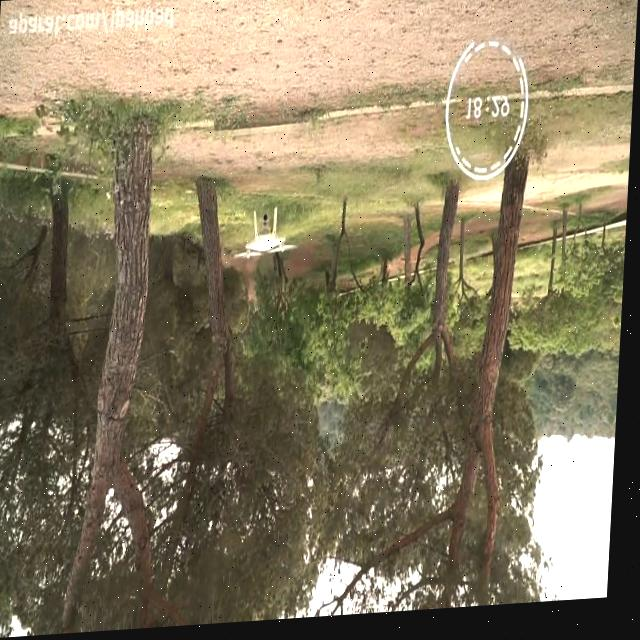drone: (232, 208, 303, 267)
